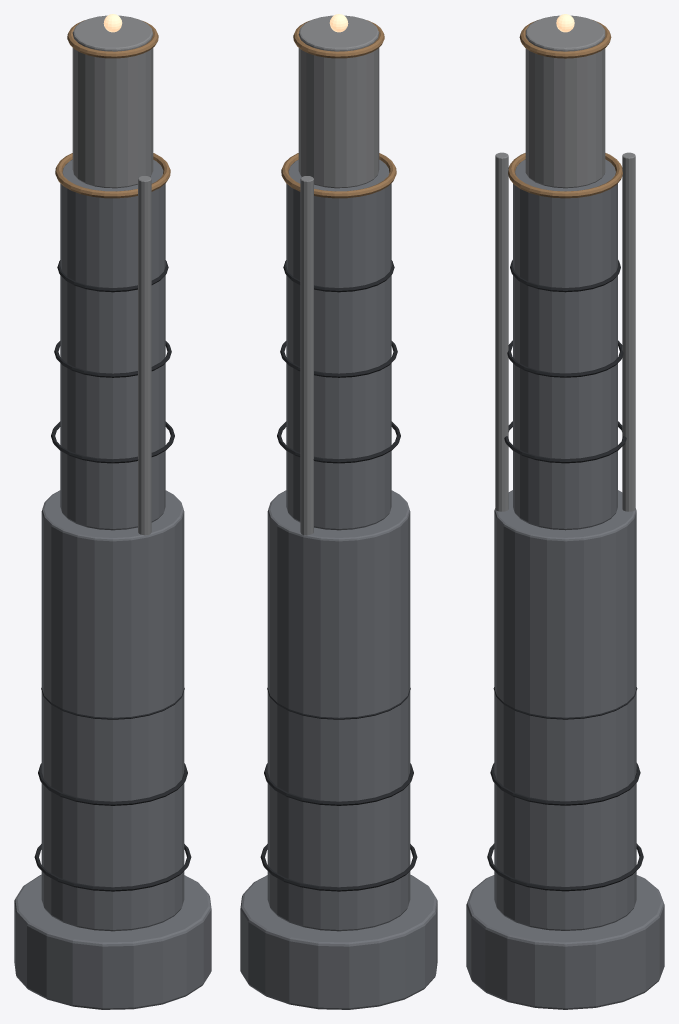
File: SM_BG_Stack.fbx
3 renders of one model, left to right at view 1: azimuth 30°, elevation 25°; view 2: azimuth 150°, elevation 25°; view 3: azimuth 270°, elevation 25°, orthographic.
Parts seen in each view (by area): view 1: SM_BG_Stack; view 2: SM_BG_Stack; view 3: SM_BG_Stack.
Part boxes in pixels (bbox=[...]): SM_BG_Stack: bbox=[14, 14, 211, 1009]; SM_BG_Stack: bbox=[240, 14, 437, 1009]; SM_BG_Stack: bbox=[466, 14, 664, 1009].
Bounding box in the file's own units: 640 × 3400 × 640.
